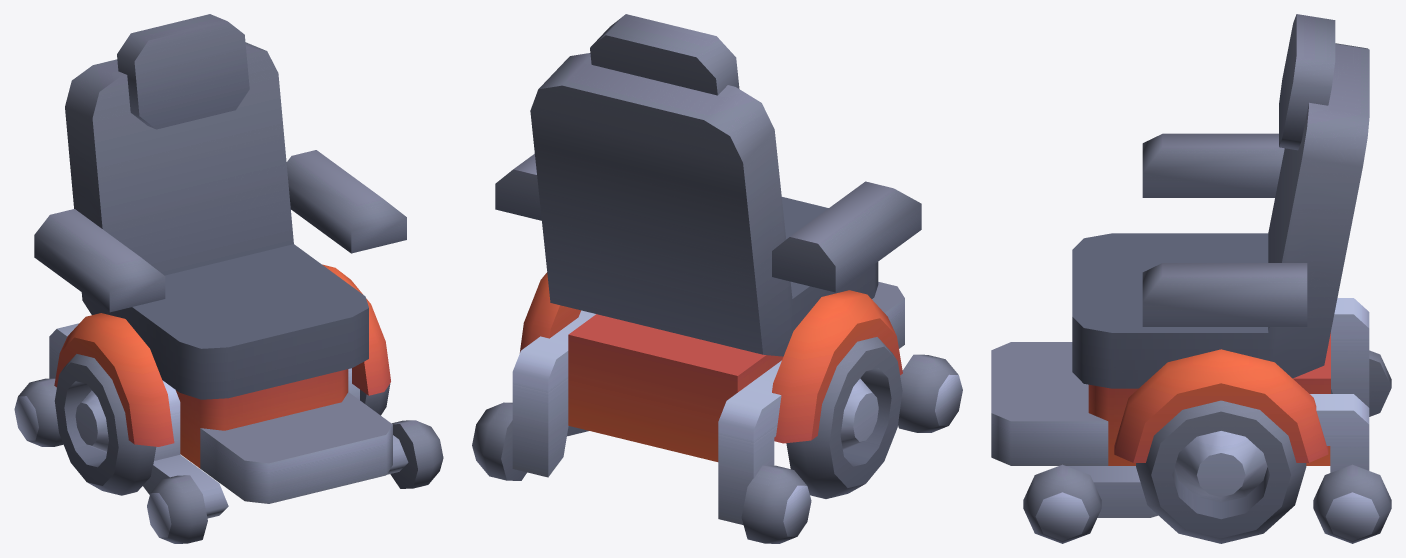
Rendered from wheelchair-power-deluxe.glb.
The picture shows the model from 3 angles, left to right: view 1: azimuth 30°, elevation 25°; view 2: azimuth 150°, elevation 25°; view 3: azimuth 270°, elevation 25°; orthographic projection. The views are drawn at different scales.
Visible parts, largest first — view 1: wheelchair-power-deluxe; view 2: wheelchair-power-deluxe; view 3: wheelchair-power-deluxe.
Part boxes in pixels (x1,y1,x2,y2): wheelchair-power-deluxe: (14, 14, 443, 543); wheelchair-power-deluxe: (472, 14, 962, 543); wheelchair-power-deluxe: (991, 14, 1391, 543).
Size of the model in its own units: 0.48 by 0.6253 by 0.5109.
1 material, 1 textured.
